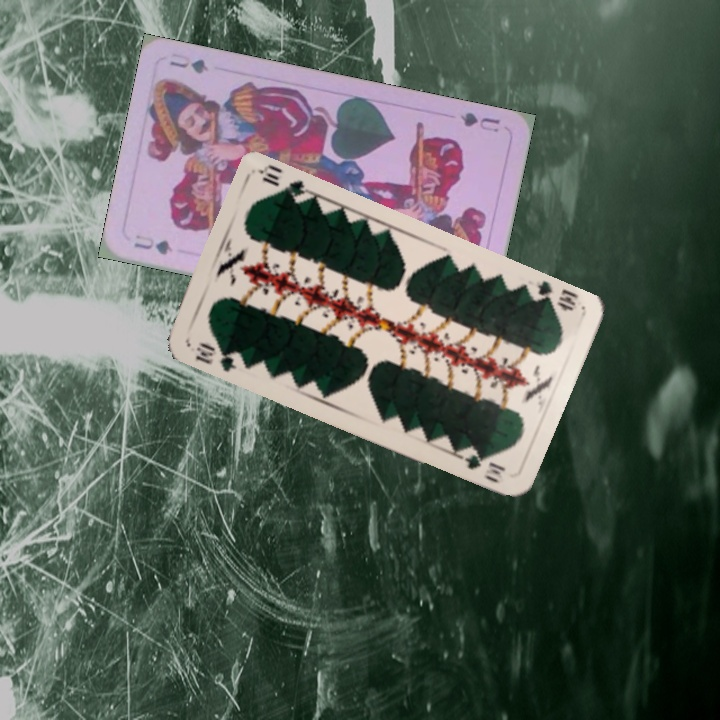G10: (524, 277, 581, 314), (191, 337, 240, 375)
GU: (456, 108, 502, 135), (130, 231, 176, 257)
